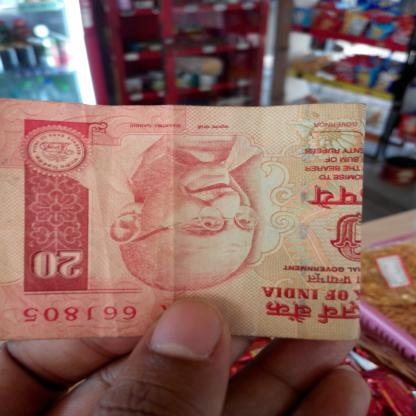Old20Front: (6, 107, 363, 340)
